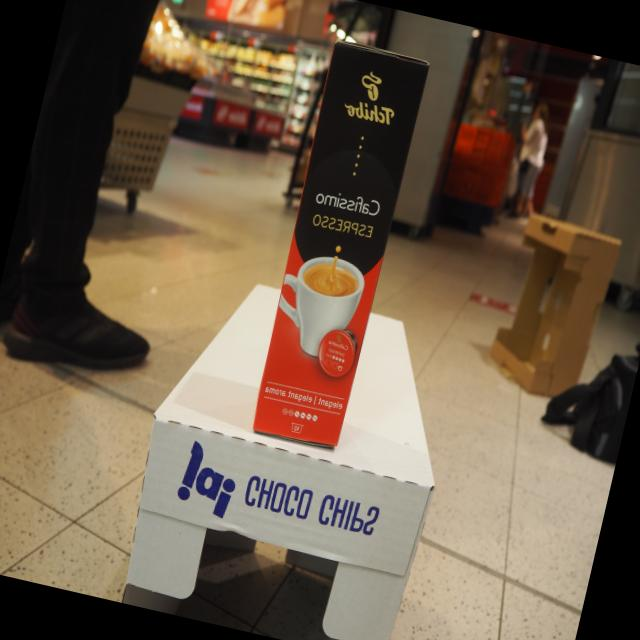Simo Es Elegant: (247, 32, 435, 454)
